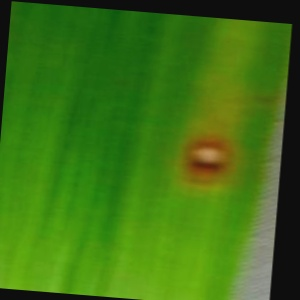Brown_Spot: (157, 100, 240, 195)
